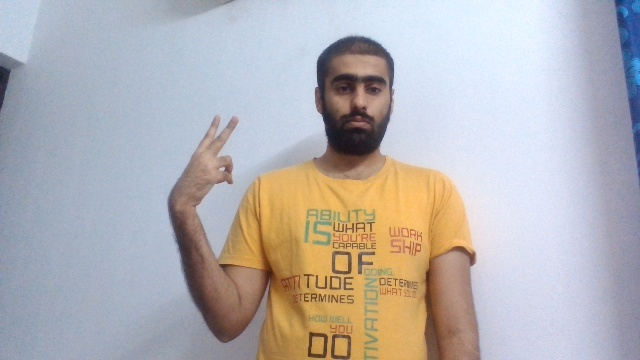scissors: (166, 114, 241, 212)
